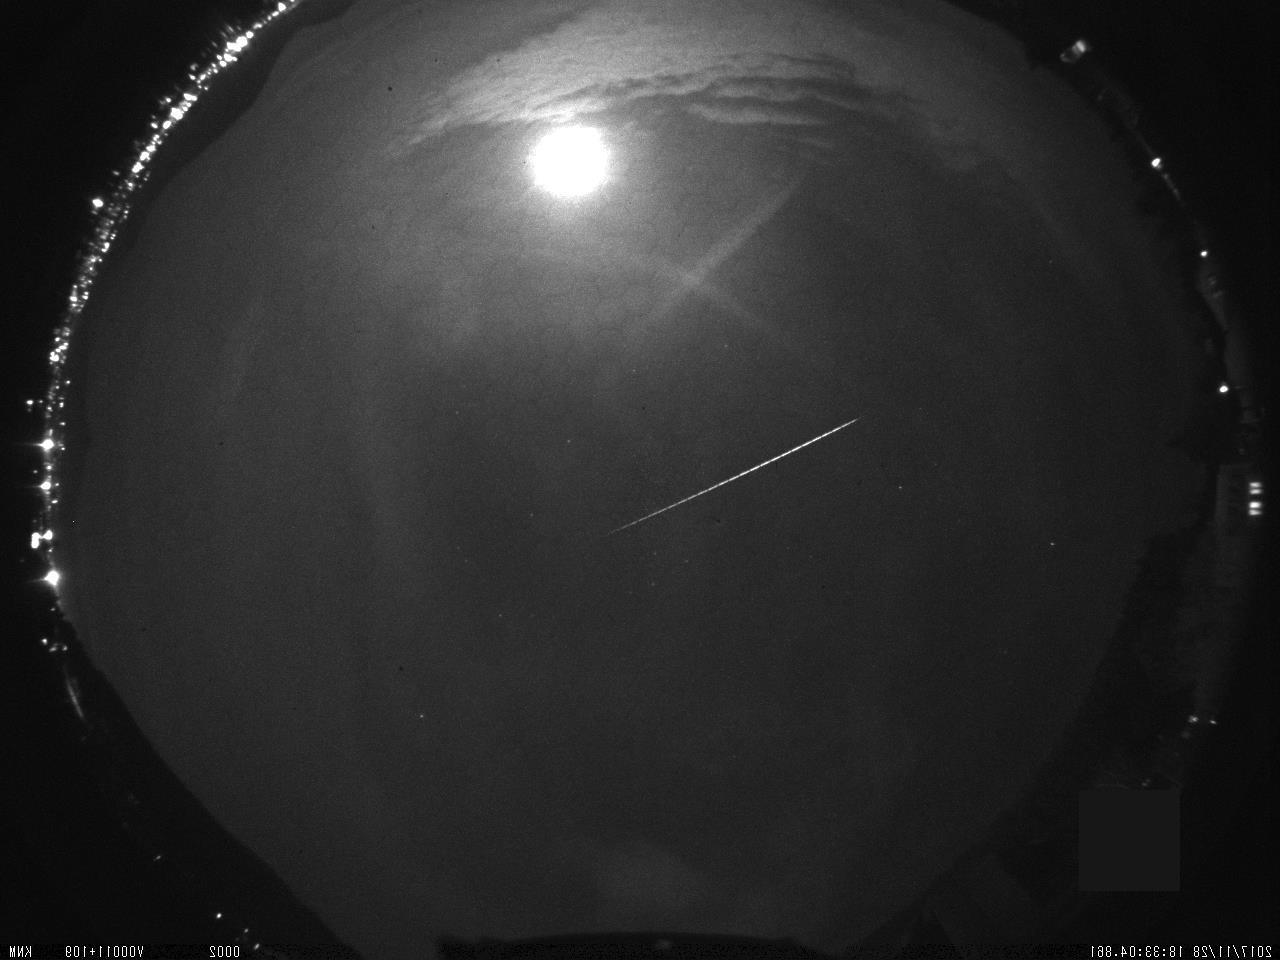meteor: (499, 346, 927, 584)
